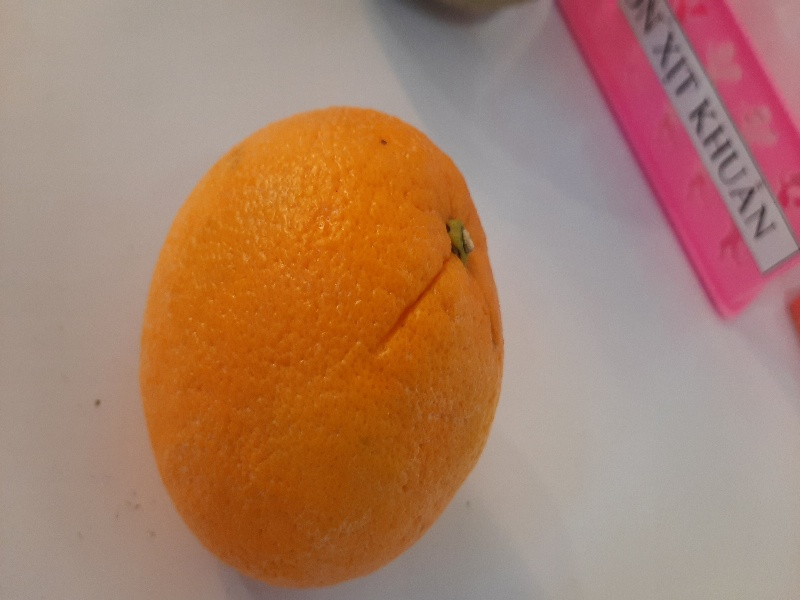fruit: (134, 97, 515, 590)
